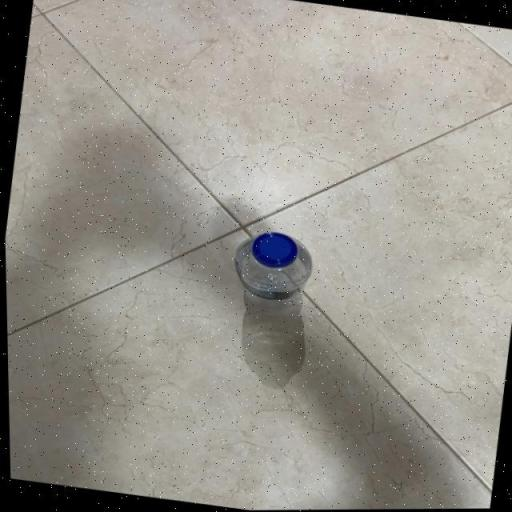plastic: (222, 224, 328, 312)
